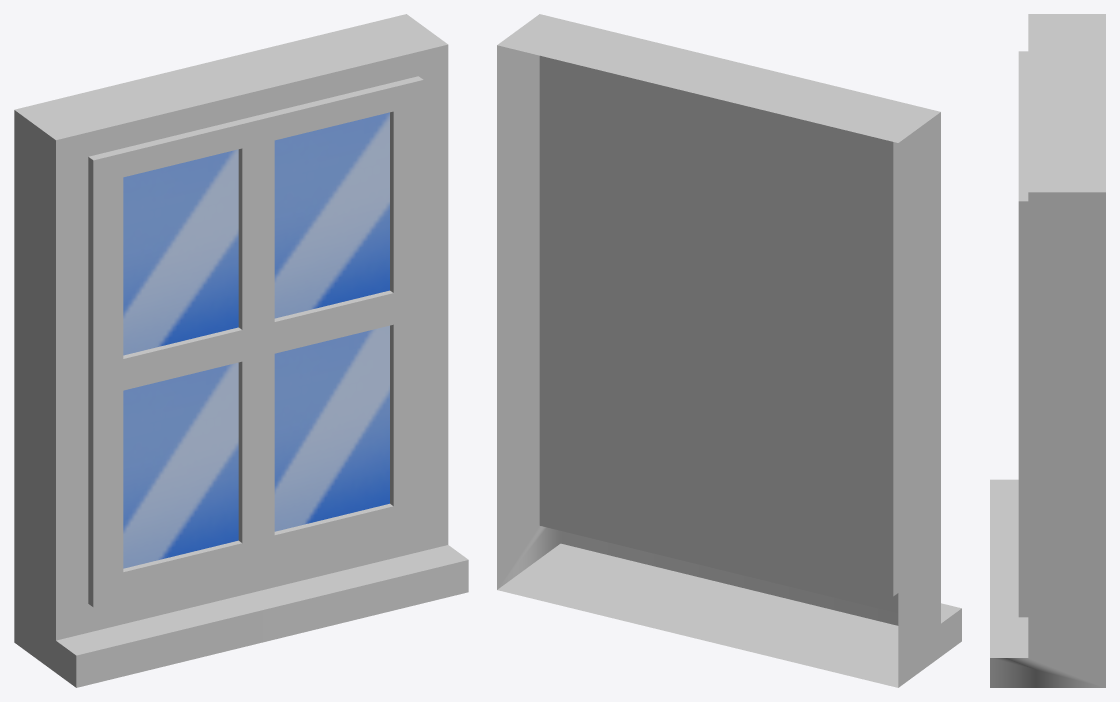
Rendered from window_04.fbx.
The picture shows the model from 3 angles, left to right: view 1: azimuth 30°, elevation 25°; view 2: azimuth 150°, elevation 25°; view 3: azimuth 270°, elevation 25°; orthographic projection. The views are drawn at different scales.
Visible parts, largest first — view 1: polySurface179, polySurface178; view 2: polySurface178; view 3: polySurface178, polySurface179.
Part boxes in pixels (x1,y1,x2,y2): polySurface179: (88, 76, 423, 607); polySurface178: (14, 14, 468, 687); polySurface178: (497, 14, 961, 687); polySurface178: (990, 14, 1105, 687); polySurface179: (1018, 51, 1028, 617).
Bounding box in the file's own units: 114 × 148 × 31.39.
